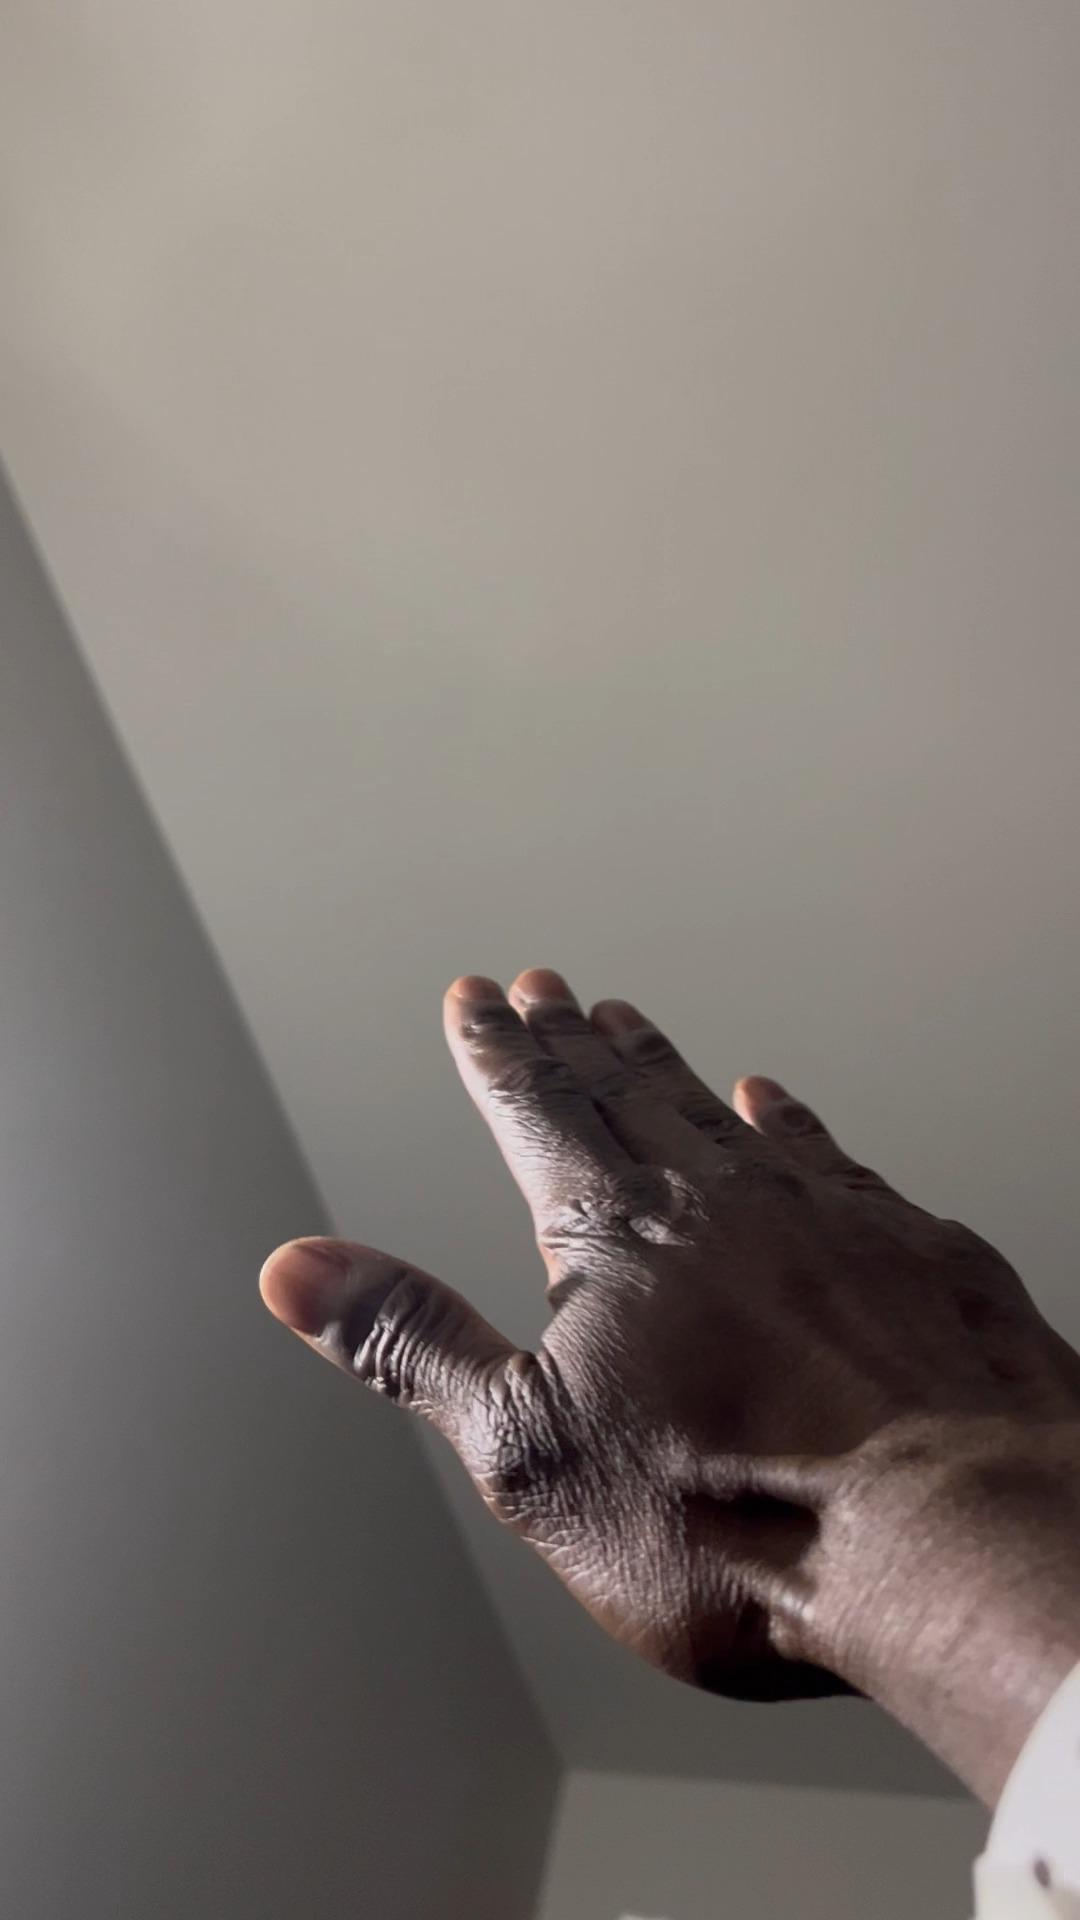Paper: (257, 949, 1080, 1708)
